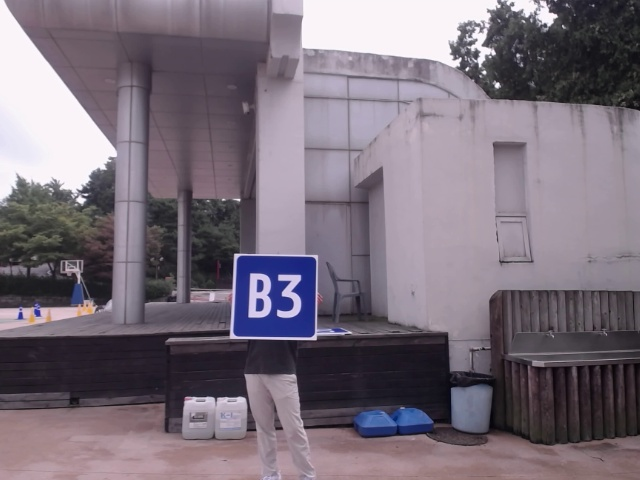delivery_b3: (235, 255, 315, 337)
